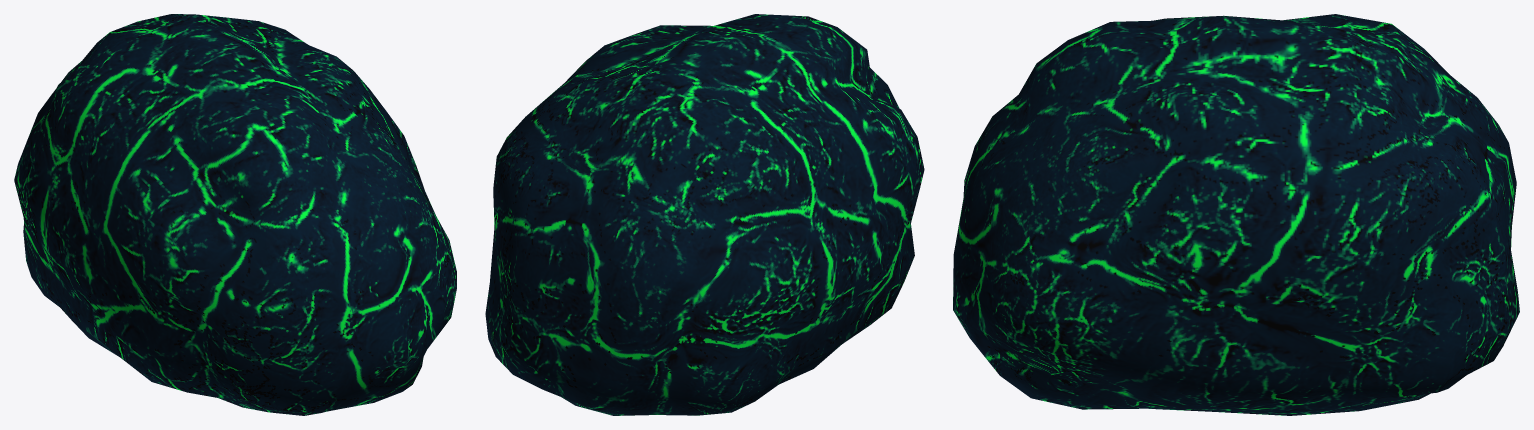
File: Potato.fbx
3 views of the same model, side by side, from view 1: azimuth 30°, elevation 25°; view 2: azimuth 150°, elevation 25°; view 3: azimuth 270°, elevation 25° (orthographic). The views are drawn at different scales.
Visible parts, largest first — view 1: SM_potato; view 2: SM_potato; view 3: SM_potato.
Part boxes in pixels (x1,y1,x2,y2): SM_potato: (14,14,456,415); SM_potato: (485,14,924,415); SM_potato: (953,14,1519,415).
Size of the model in its own units: 10.05 by 9.57 by 14.05.
1 material, 1 textured.
